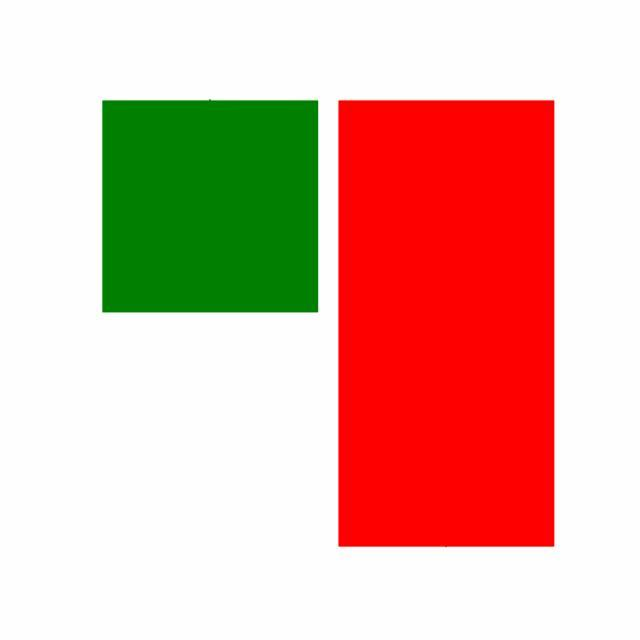Marubozu: (328, 97, 566, 554)
